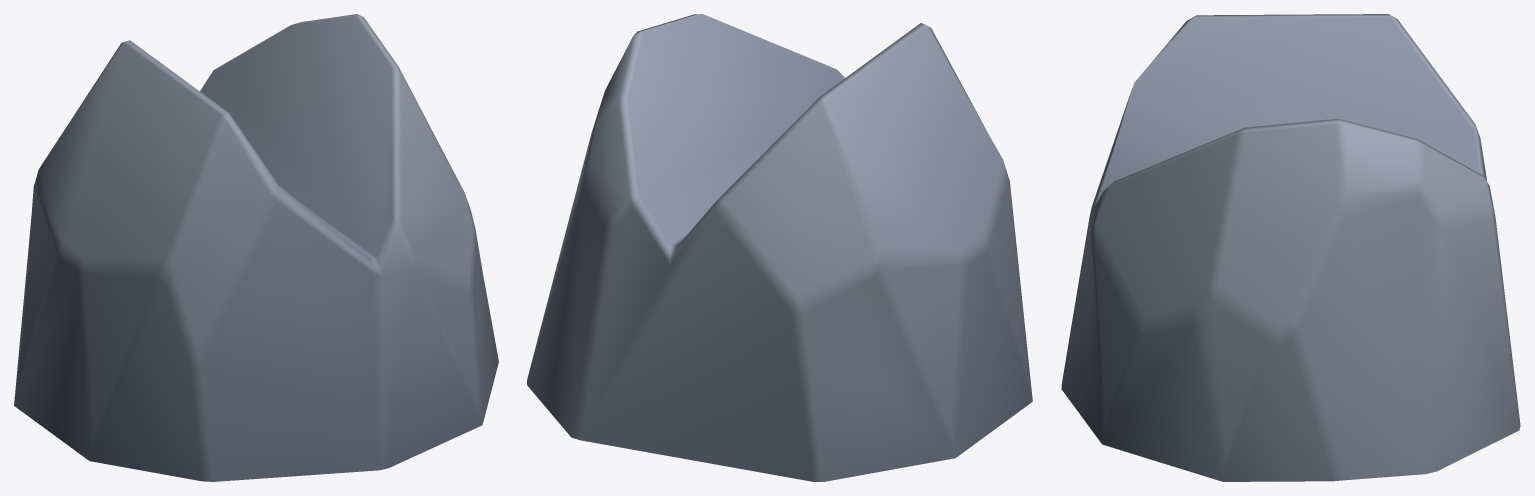
The model's file is Stone_lvl_04.fbx.
3 renders of one model, left to right at view 1: azimuth 30°, elevation 25°; view 2: azimuth 150°, elevation 25°; view 3: azimuth 270°, elevation 25°, orthographic. The views are drawn at different scales.
Parts seen in each view (by area): view 1: Stone_lvl_04; view 2: Stone_lvl_04; view 3: Stone_lvl_04.
Boxes of the visible parts, x1,y1,x2,y2 form: Stone_lvl_04: [14, 14, 498, 481]; Stone_lvl_04: [527, 14, 1032, 481]; Stone_lvl_04: [1061, 14, 1520, 481].
Bounding box in the file's own units: 0.7142 × 0.5496 × 0.7.
